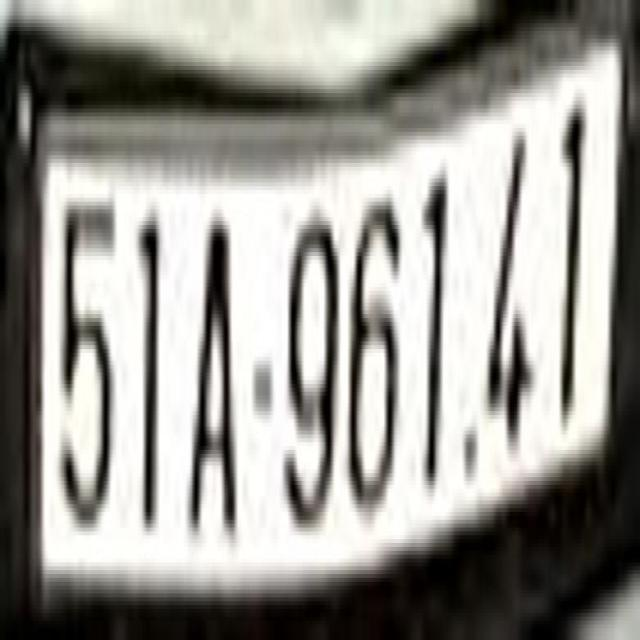1: (418, 170, 449, 504), (557, 89, 586, 442), (134, 194, 161, 570)
4: (486, 124, 538, 462)
5: (63, 166, 115, 558)
6: (346, 186, 403, 528)
9: (280, 198, 342, 554)
A: (190, 198, 247, 566)
